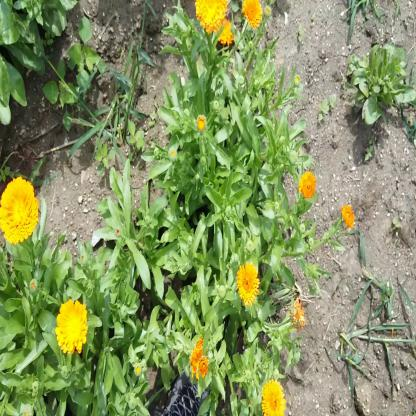marigold: (1, 176, 38, 243), (57, 300, 86, 352), (237, 263, 259, 306), (196, 0, 226, 30), (262, 382, 284, 414), (298, 170, 317, 199), (243, 0, 262, 26)
